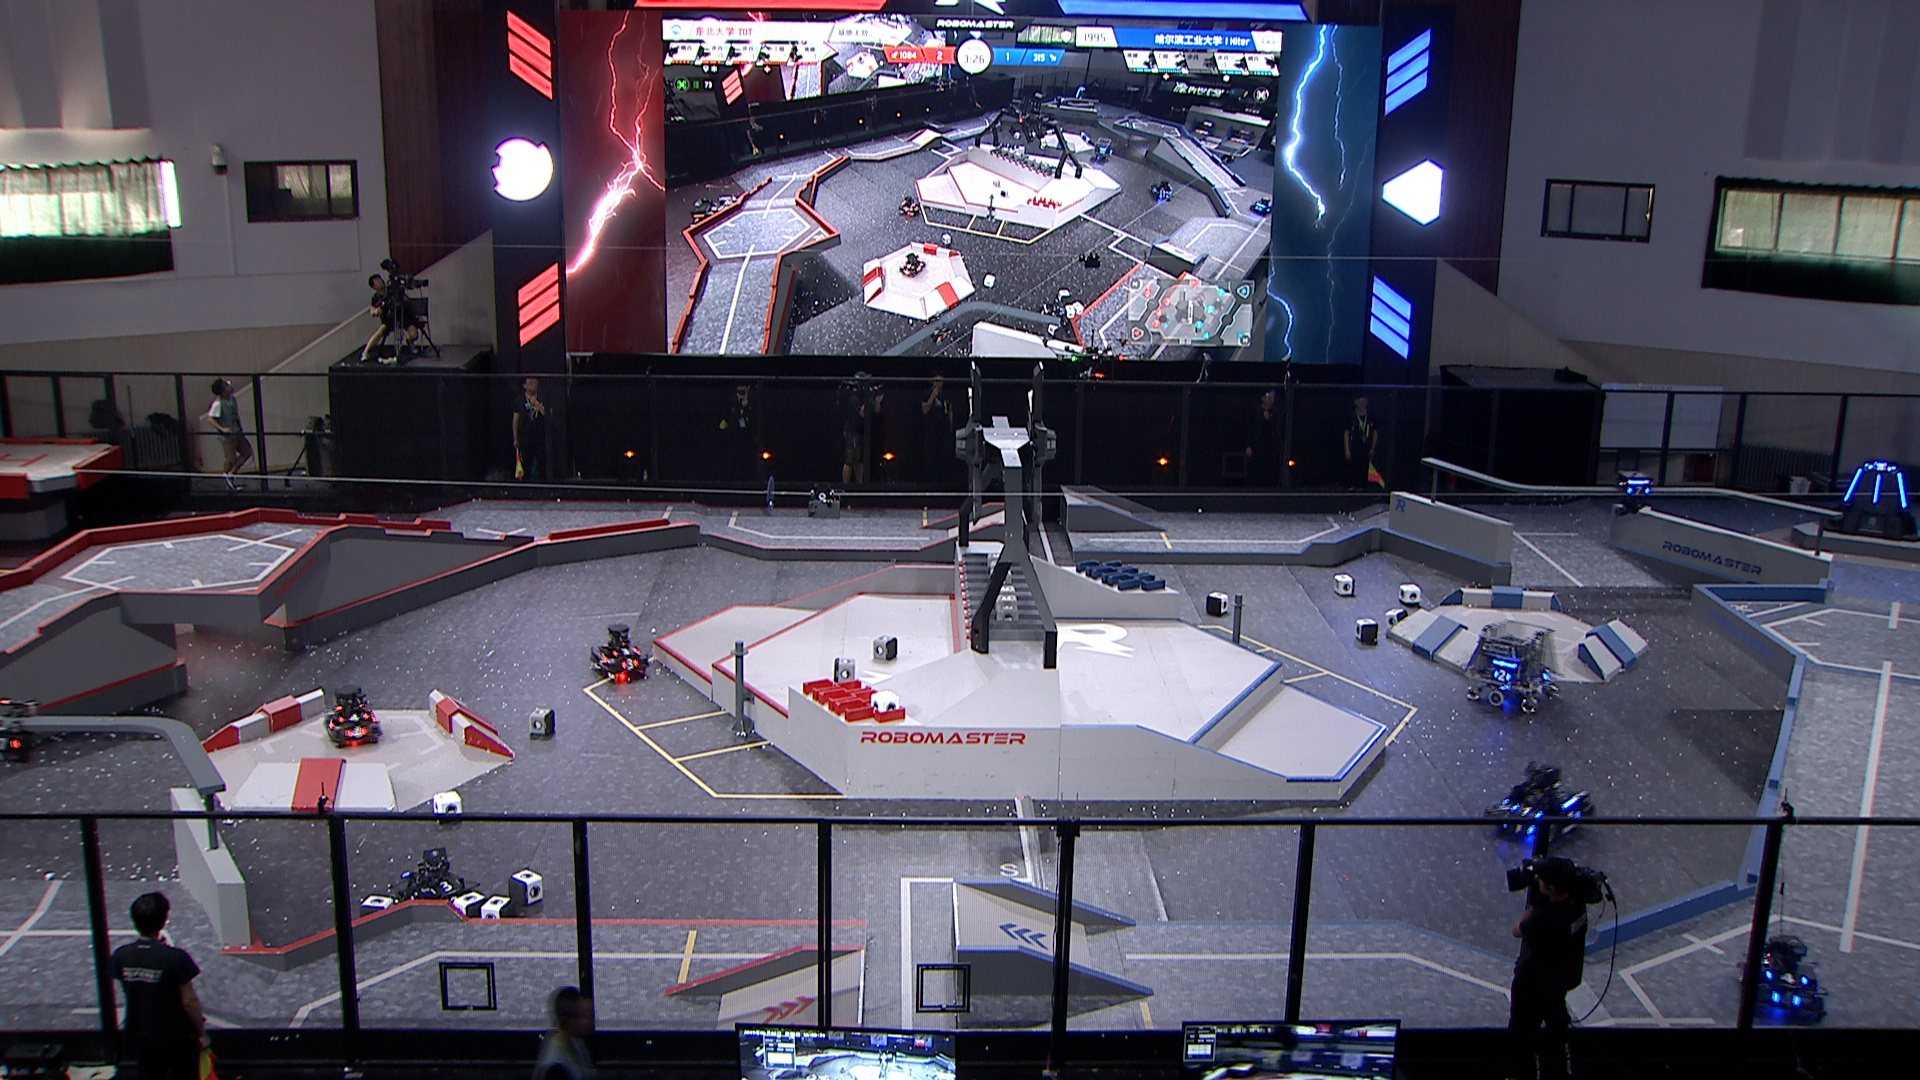armor: (1840, 465, 1865, 502), (1501, 816, 1538, 835), (430, 877, 462, 894), (1768, 992, 1797, 1007), (1560, 811, 1588, 827), (1898, 469, 1908, 508), (1871, 473, 1884, 504), (345, 723, 365, 740), (613, 646, 638, 659), (1513, 802, 1538, 815), (1870, 460, 1894, 473), (1768, 971, 1795, 982), (342, 711, 367, 723), (1493, 669, 1513, 680), (1538, 666, 1555, 679), (595, 651, 609, 666), (622, 659, 638, 671), (1627, 487, 1647, 496)
base: (1821, 458, 1920, 542)
car: (1457, 617, 1563, 716), (1486, 757, 1594, 849), (1737, 934, 1828, 1025), (386, 847, 476, 920), (320, 683, 382, 746), (589, 621, 651, 684)
ignore: (920, 310, 953, 342), (684, 194, 717, 224), (1087, 135, 1116, 166), (712, 194, 738, 218), (1250, 196, 1276, 219), (1147, 178, 1174, 200), (895, 196, 922, 219), (898, 249, 923, 270)
watcher: (1614, 467, 1658, 520)
